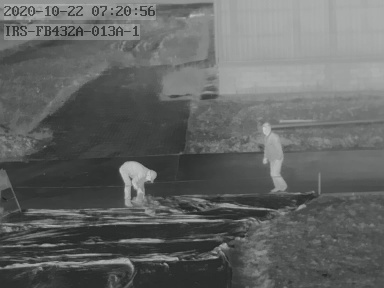person: (116, 159, 158, 205), (259, 122, 285, 191)
